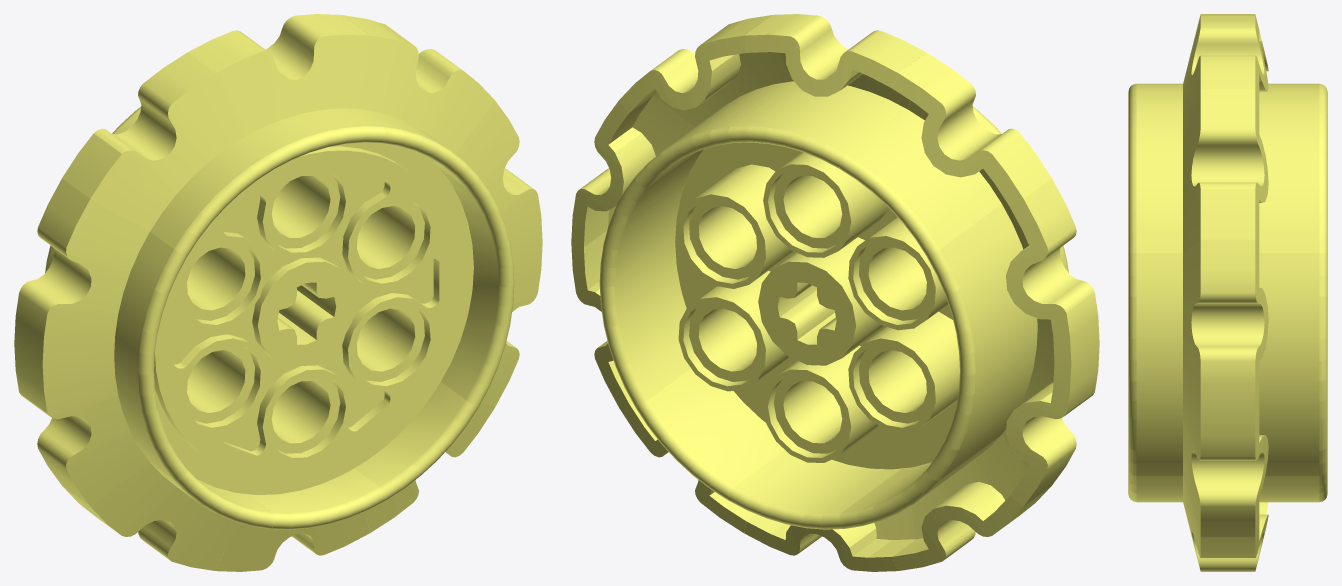
The picture shows the model from 3 angles, left to right: view 1: azimuth 30°, elevation 25°; view 2: azimuth 150°, elevation 25°; view 3: azimuth 270°, elevation 25°; orthographic projection. The views are drawn at different scales.
Visible parts, largest first — view 1: 57519.dat; view 2: 57519.dat; view 3: 57519.dat.
Part boxes in pixels (x1=…): 57519.dat: x1=14, y1=14, x2=542, y2=571; 57519.dat: x1=571, y1=14, x2=1099, y2=571; 57519.dat: x1=1128, y1=14, x2=1327, y2=571.
Size of the model in its own units: 0.0408 by 0.0405 by 0.0146.
